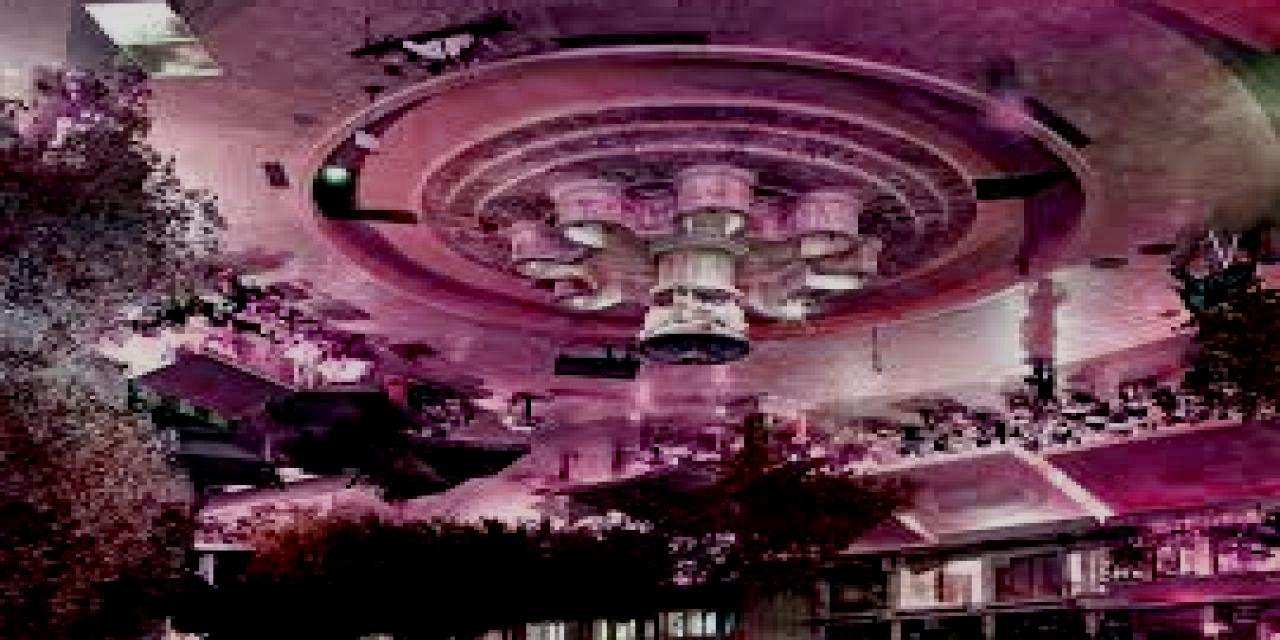Liontaria: (501, 162, 891, 367)
